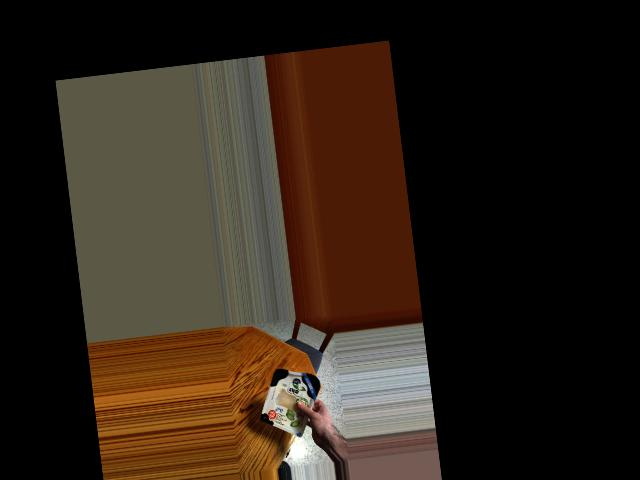cheese: (258, 363, 329, 434)
